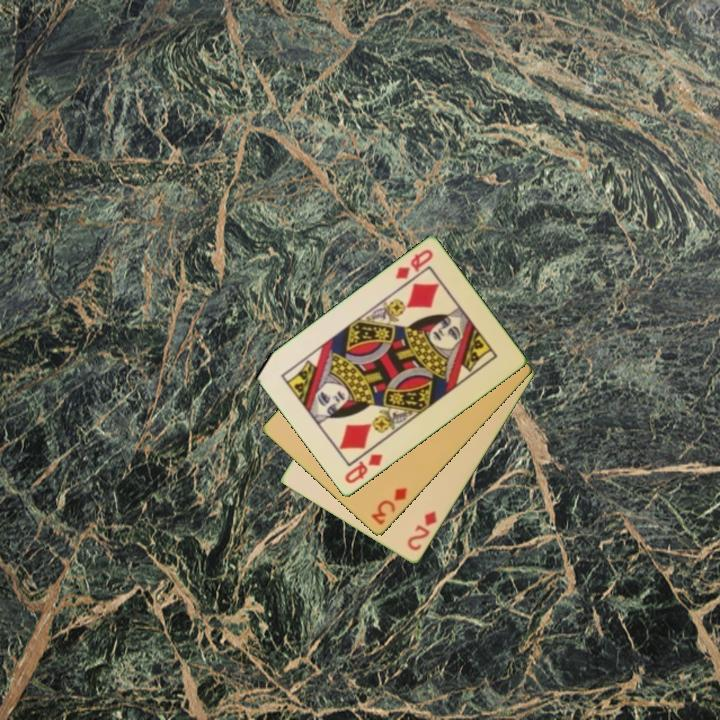2d: (404, 507, 440, 554)
3d: (367, 484, 410, 529)
Qd: (391, 246, 436, 283), (341, 451, 386, 487)
